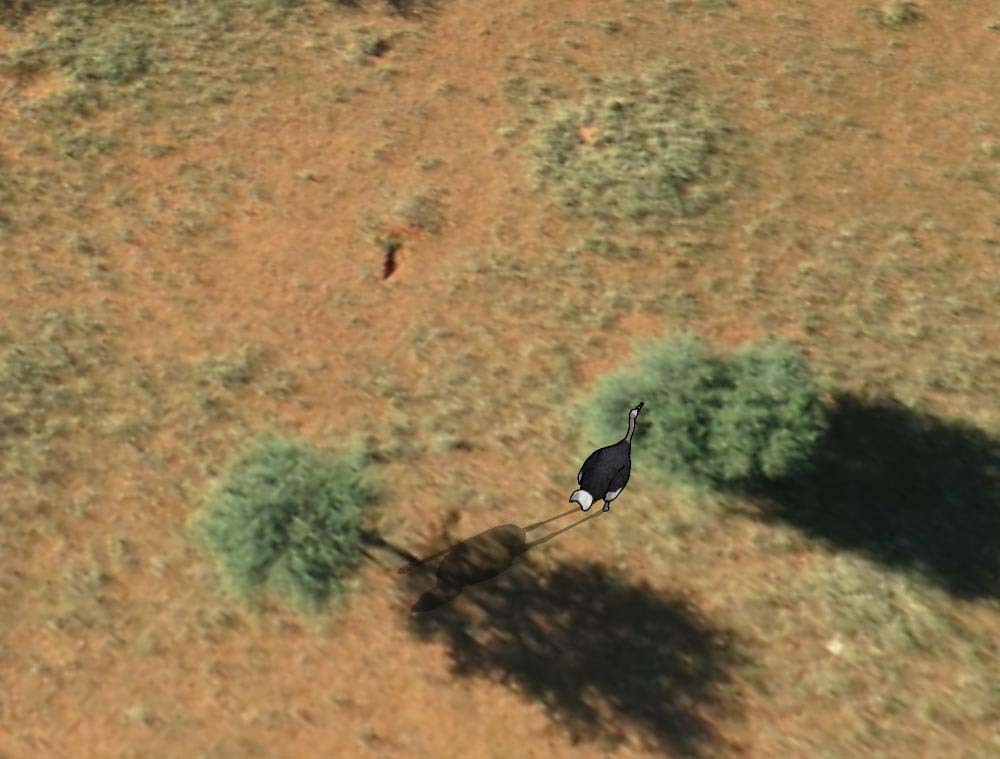springbok: (566, 403, 655, 515)
